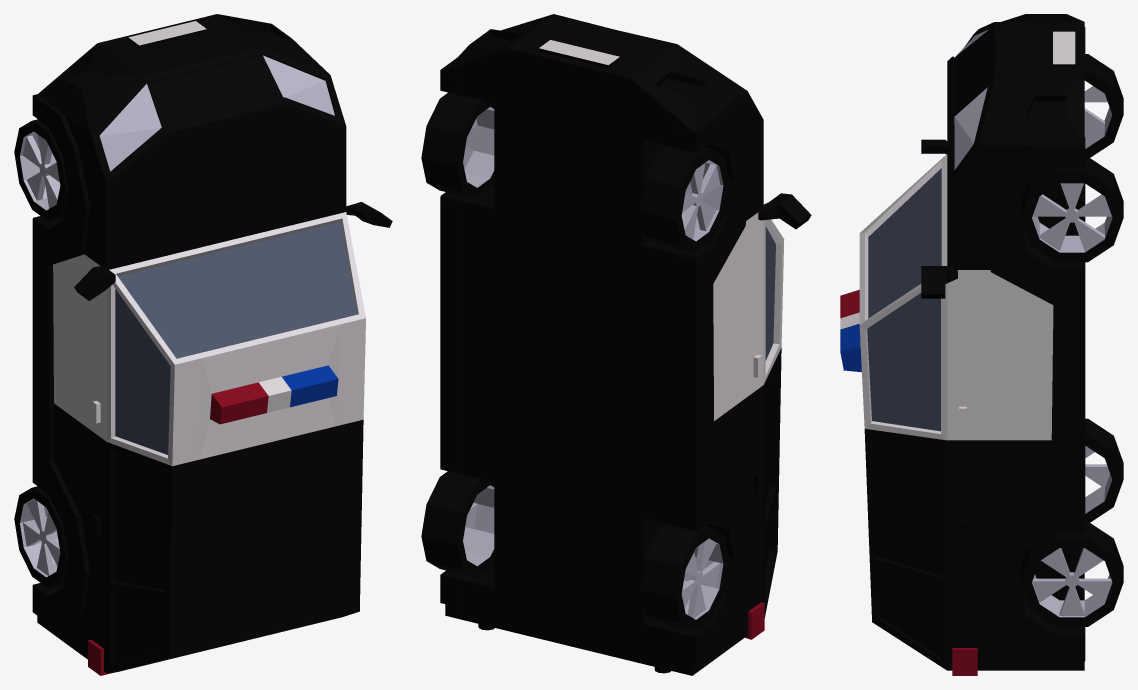
File: Police_SUV.glb
3 renders of one model, left to right at view 1: azimuth 30°, elevation 25°; view 2: azimuth 150°, elevation 25°; view 3: azimuth 270°, elevation 25°, orthographic. The views are drawn at different scales.
Parts seen in each view (by area): view 1: Mesh_0; view 2: Mesh_0; view 3: Mesh_0.
Part boxes in pixels (<box>): Mesh_0: <box>14,14,392,675</box>; Mesh_0: <box>421,14,811,675</box>; Mesh_0: <box>840,14,1123,675</box>.
Bounding box in the file's own units: 2.81 × 5.04 × 2.26.
